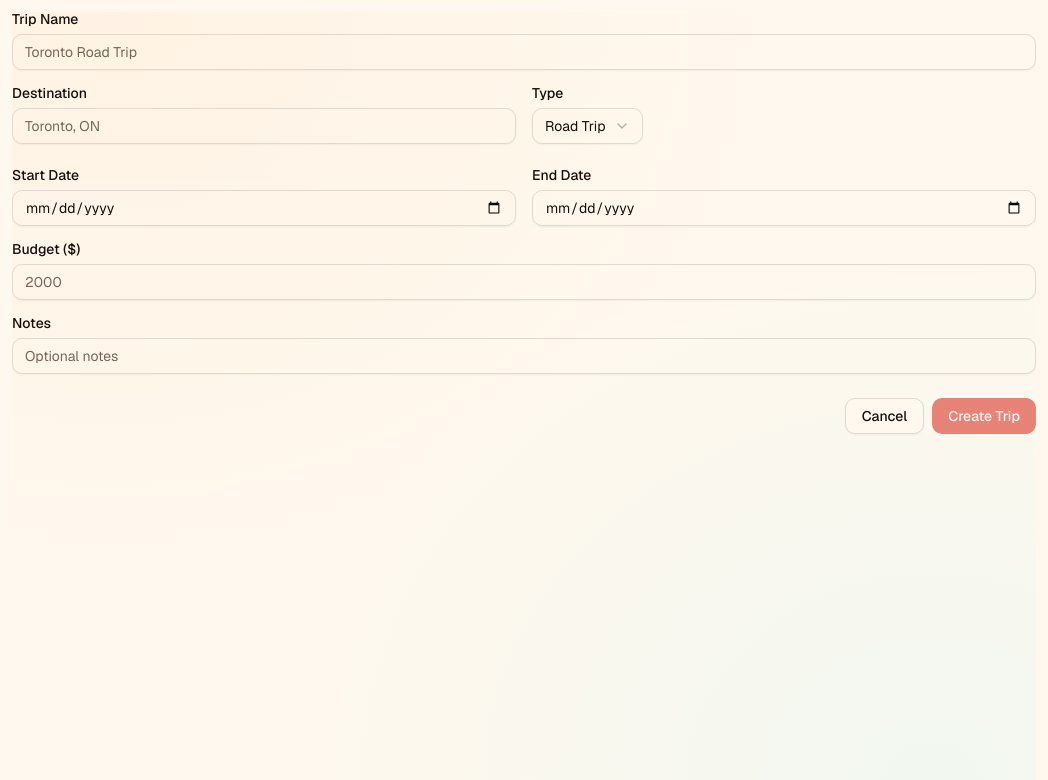
Test: TripForm behavior › shows 'Saving…' and disables submit while request is in flight
Type "Summer Vacation" into the field labelled "Trip Name" at [524, 52], box left=12, top=34, right=1036, bottom=70
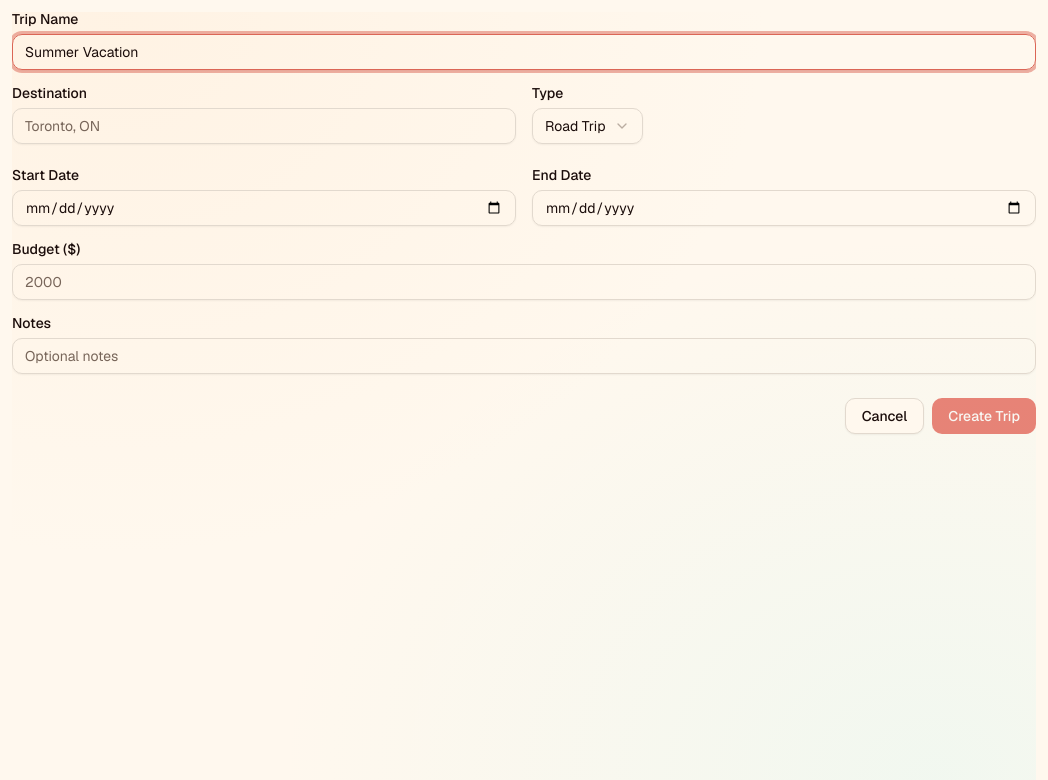
Type "Vancouver, BC" into the field labelled "Destination" at [264, 126], box left=12, top=108, right=516, bottom=144
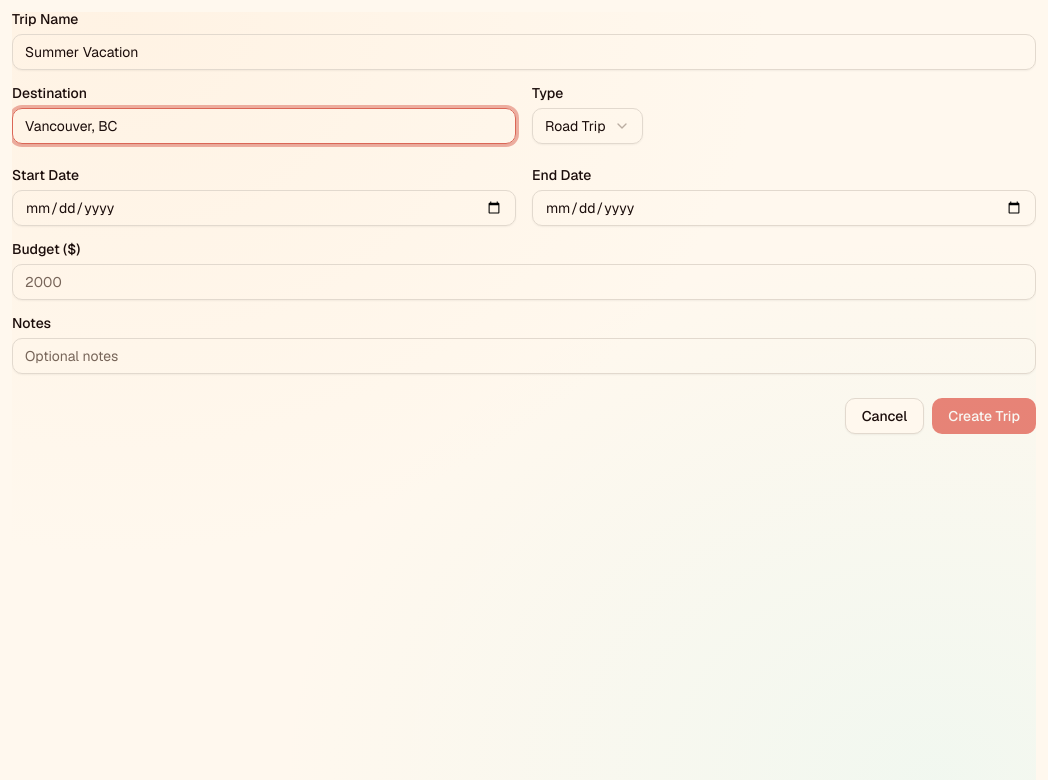
Type "2025-08-01" into the date field labelled "Start Date" at [264, 208], box left=12, top=190, right=516, bottom=226
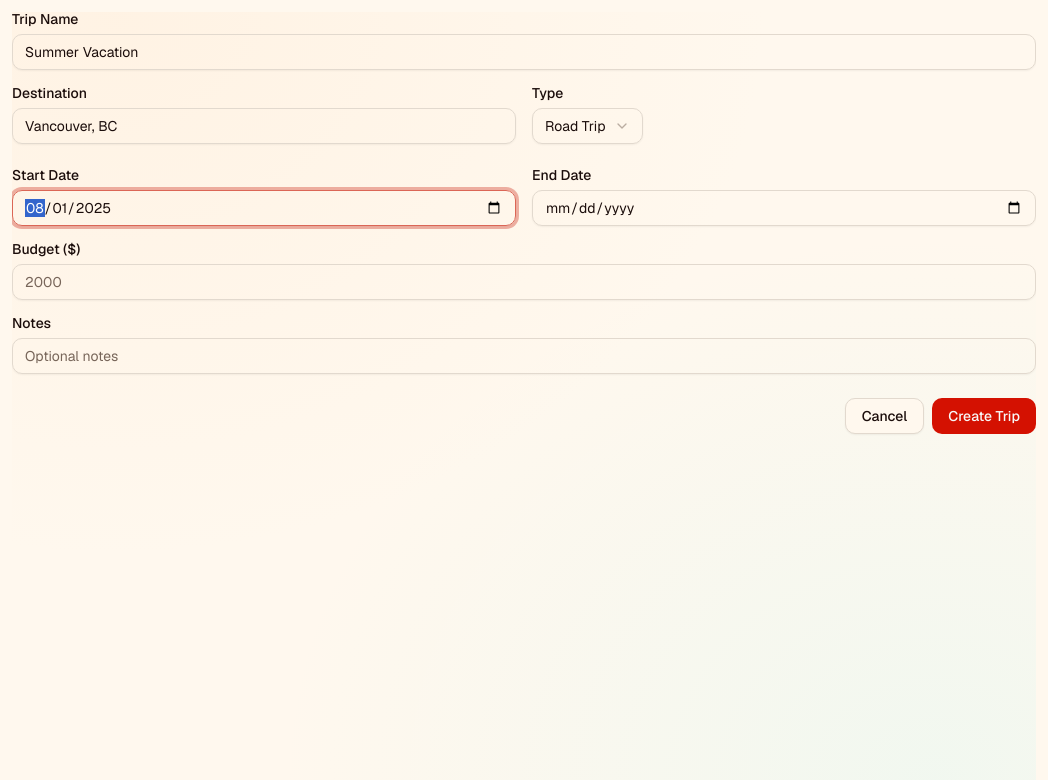
Click the button "Create Trip" at [984, 416], box left=932, top=398, right=1036, bottom=434
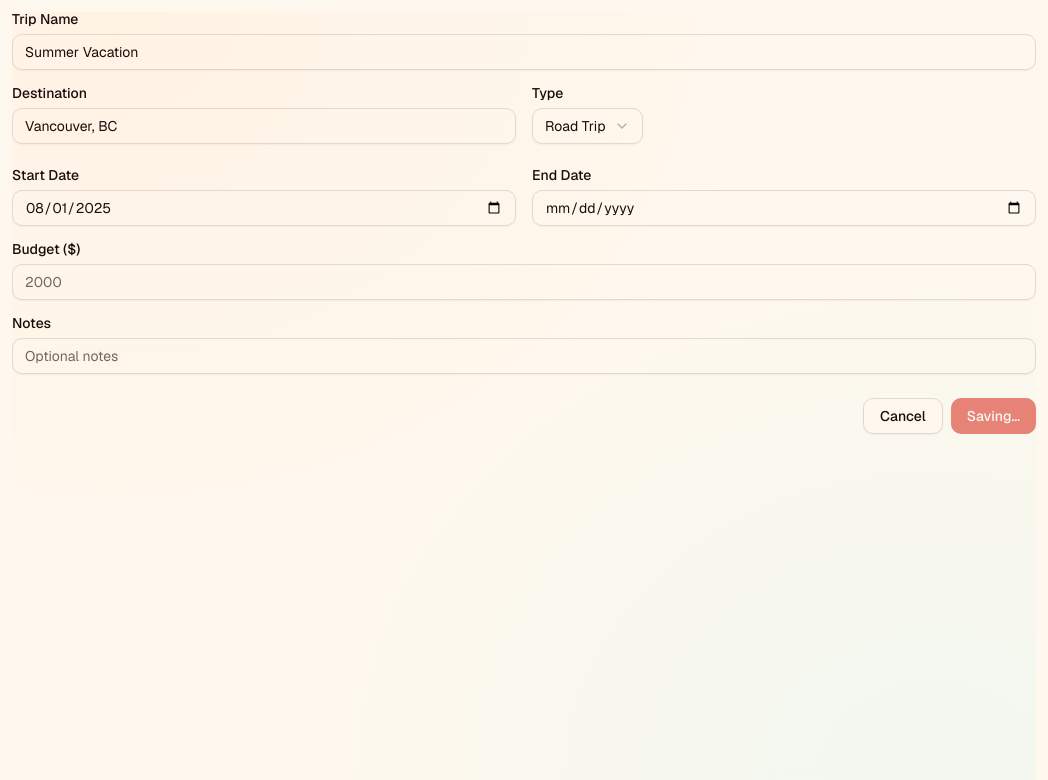
Expected: the button "Saving…" is disabled, left=951, top=398, right=1036, bottom=434
